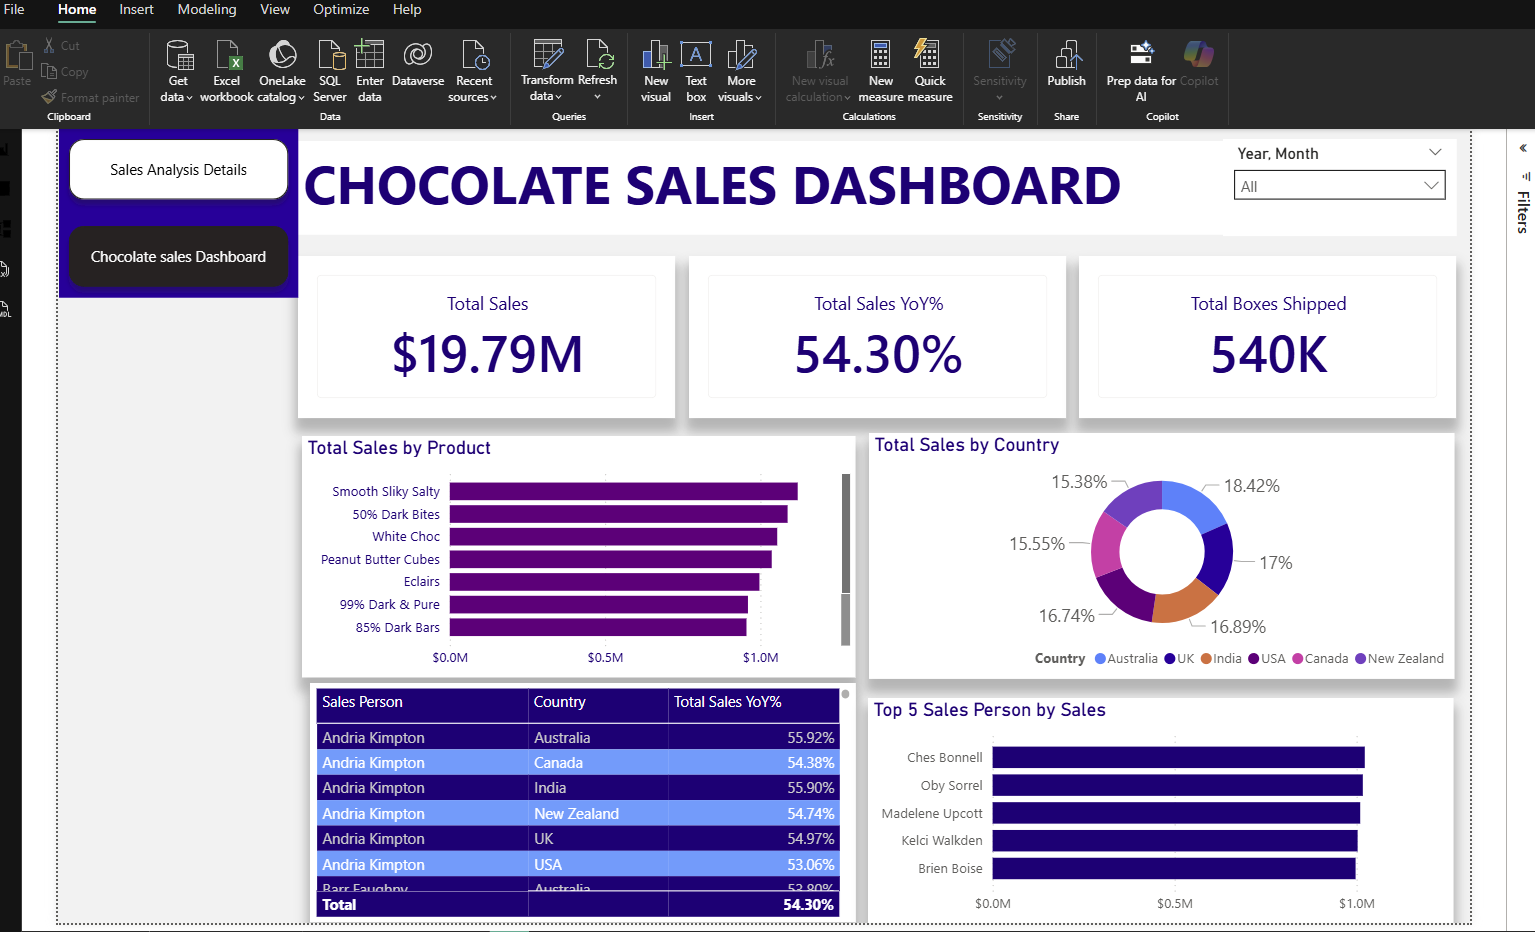

The dashboard page shown, as its layout file describes it:
{"tool":"powerbi","page":{"name":"Chocolate sales Dashboard","canvas":[1280,720],"ordinal":1},"visuals":[{"type":"cardVisual","fields":{"Data":["Cleaned_chocolate sales.Total Sales"]},"box":[218,115.1,342.2,146.9],"z":0,"group":"g1"},{"type":"textbox","box":[217.9,11.1,1050,85.3],"z":0},{"type":"cardVisual","fields":{"Data":["Cleaned_chocolate sales.Total Sales YoY%"]},"box":[572.3,115.1,342.2,146.9],"z":1000,"group":"g1"},{"type":"slicer","fields":{"Values":["DateTable.Year","DateTable.Month"]},"box":[1056.3,9.5,211.6,88.4],"z":1000},{"type":"actionButton","box":[0,0,100,40],"z":2000},{"type":"cardVisual","fields":{"Data":["Cleaned_chocolate sales.Boxes Shipped"]},"box":[926.6,115.1,342.2,146.9],"z":2000,"group":"g1"},{"type":"group","id":"g1","title":"Group 1","box":[218,115.1,1050.9,604.9],"z":3000},{"type":"barChart","fields":{"Category":["Cleaned_chocolate sales.Product"],"Y":["Cleaned_chocolate sales.Total Sales"]},"box":[221.9,278.1,502,219.1],"z":3000,"group":"g1"},{"type":"pageNavigator","box":[1,0,217.1,153.2],"z":4000},{"type":"tableEx","fields":{"Values":["Cleaned_chocolate sales.Sales Person","Cleaned_chocolate sales.Country","Cleaned_chocolate sales.Total Sales YoY%"]},"box":[228.6,502.7,495.1,217.3],"z":4000,"group":"g1"},{"type":"donutChart","fields":{"Category":["Cleaned_chocolate sales.Country"],"Y":["Cleaned_chocolate sales.Total Sales"]},"box":[735.9,275.6,531.5,222.6],"z":5000,"group":"g1"},{"type":"clusteredBarChart","title":"Top 5 Sales Person by Sales","fields":{"Category":["Cleaned_chocolate sales.Sales Person"],"Y":["Cleaned_chocolate sales.Total Sales"]},"box":[735.1,515.9,531,204.1],"z":6000,"group":"g1"}]}

Visuals, with their boxes on the page's 1280x720 design canvas (x1, y1, x2, y2). These are canvas units, not pixel positions in the 1535x932 screenshot, which may show the page scaled, cropped or inside an application window:
cardVisual - Cleaned_chocolate sales.Total Sales: box(218, 115, 560, 262)
textbox: box(218, 11, 1268, 96)
cardVisual - Cleaned_chocolate sales.Total Sales YoY%: box(572, 115, 914, 262)
slicer - DateTable.Year x DateTable.Month: box(1056, 10, 1268, 98)
actionButton: box(0, 0, 100, 40)
cardVisual - Cleaned_chocolate sales.Boxes Shipped: box(927, 115, 1269, 262)
"Group 1" group: box(218, 115, 1269, 720)
barChart - Cleaned_chocolate sales.Product x Cleaned_chocolate sales.Total Sales: box(222, 278, 724, 497)
pageNavigator: box(1, 0, 218, 153)
tableEx - Cleaned_chocolate sales.Sales Person x Cleaned_chocolate sales.Country: box(229, 503, 724, 720)
donutChart - Cleaned_chocolate sales.Country x Cleaned_chocolate sales.Total Sales: box(736, 276, 1267, 498)
"Top 5 Sales Person by Sales" clusteredBarChart: box(735, 516, 1266, 720)
